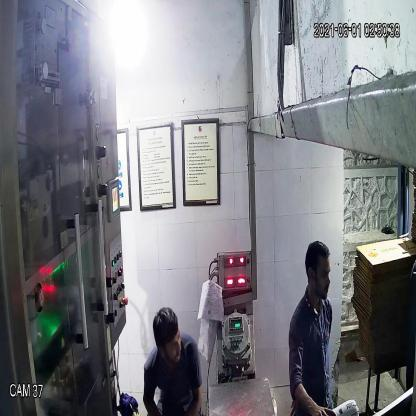no_goggles: (301, 263, 333, 286)
